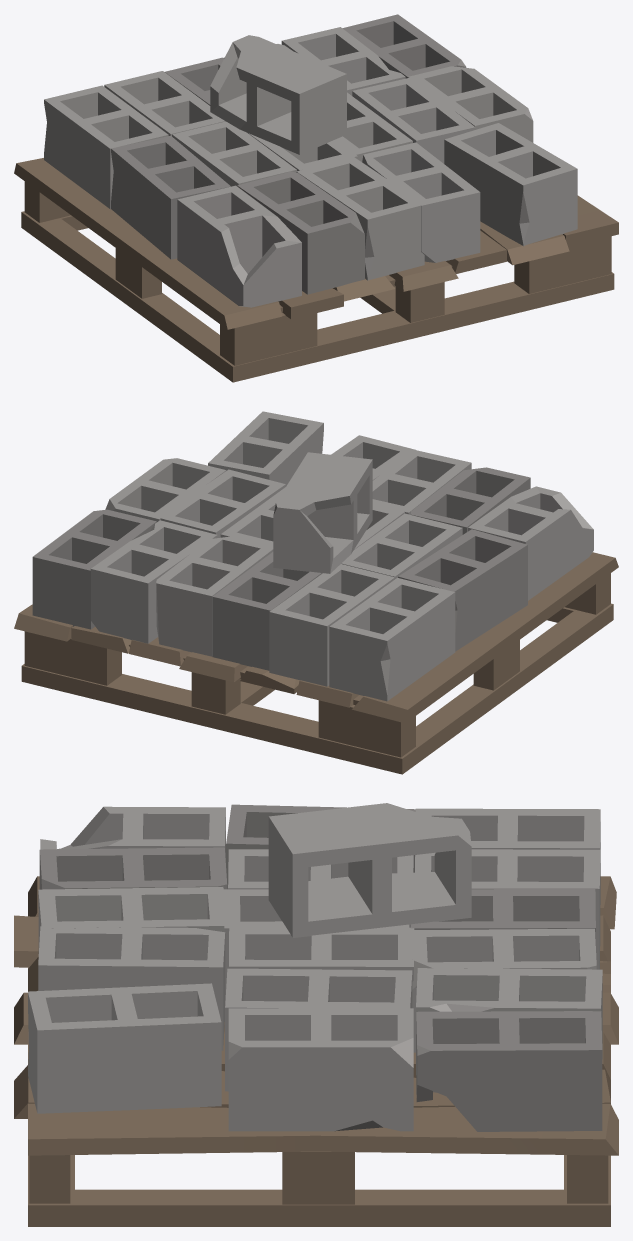
File: SM_Prop_Construction_Blocks_01.obj
3 renders of one model, top to bottom at view 1: azimuth 30°, elevation 25°; view 2: azimuth 150°, elevation 25°; view 3: azimuth 270°, elevation 25°, orthographic. The views are drawn at different scales.
Parts seen in each view (by area): view 1: SM_Prop_Construction_Blocks_01_0; view 2: SM_Prop_Construction_Blocks_01_0; view 3: SM_Prop_Construction_Blocks_01_0.
Part boxes in pixels (<box>): SM_Prop_Construction_Blocks_01_0: <box>14,14,618,382</box>; SM_Prop_Construction_Blocks_01_0: <box>14,411,618,774</box>; SM_Prop_Construction_Blocks_01_0: <box>14,803,618,1226</box>.
Size of the model in its own units: 1.46 by 0.6661 by 1.42.
Materials: 1 (1 with a texture image).
